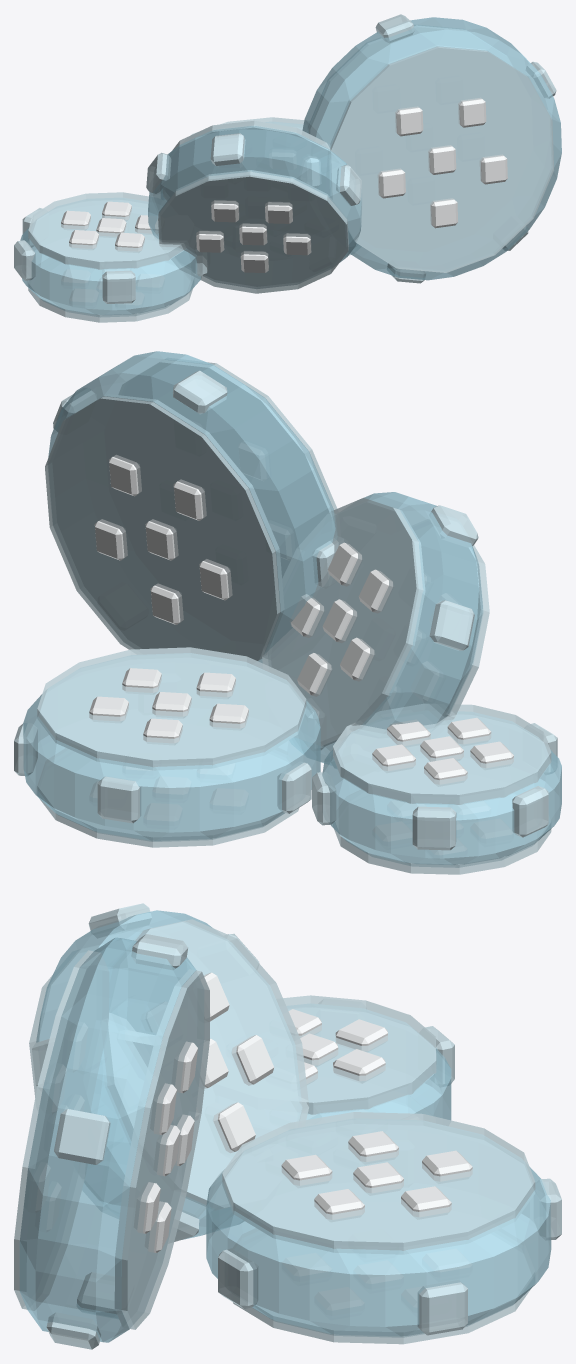
The model's file is UnderwaterBubbleSlice.fbx.
3 views of the same model, one above another, from view 1: azimuth 30°, elevation 25°; view 2: azimuth 150°, elevation 25°; view 3: azimuth 270°, elevation 25° (orthographic). The views are drawn at different scales.
Parts seen in each view (by area): view 1: UnderwaterBubbleSlice.Rims, UnderwaterBubbleSlice.Faces, UnderwaterBubbleSlice.Seeds, UnderwaterBubbleSlice.RimStuds; view 2: UnderwaterBubbleSlice.Faces, UnderwaterBubbleSlice.Rims, UnderwaterBubbleSlice.Seeds, UnderwaterBubbleSlice.RimStuds; view 3: UnderwaterBubbleSlice.Rims, UnderwaterBubbleSlice.Faces, UnderwaterBubbleSlice.Seeds, UnderwaterBubbleSlice.RimStuds.
Part boxes in pixels (x1,y1,x2,y2): UnderwaterBubbleSlice.Rims: (20, 17, 561, 317); UnderwaterBubbleSlice.Faces: (28, 25, 553, 322); UnderwaterBubbleSlice.Seeds: (61, 98, 507, 272); UnderwaterBubbleSlice.RimStuds: (14, 14, 556, 303); UnderwaterBubbleSlice.Faces: (37, 358, 551, 874); UnderwaterBubbleSlice.Rims: (23, 351, 561, 867); UnderwaterBubbleSlice.Seeds: (89, 455, 513, 784); UnderwaterBubbleSlice.RimStuds: (14, 370, 557, 850); UnderwaterBubbleSlice.Rims: (19, 910, 551, 1342); UnderwaterBubbleSlice.Faces: (14, 919, 535, 1344); UnderwaterBubbleSlice.Seeds: (137, 972, 472, 1252); UnderwaterBubbleSlice.RimStuds: (32, 903, 561, 1349).
Size of the model in its own units: 3.36 by 1.79 by 2.3.
